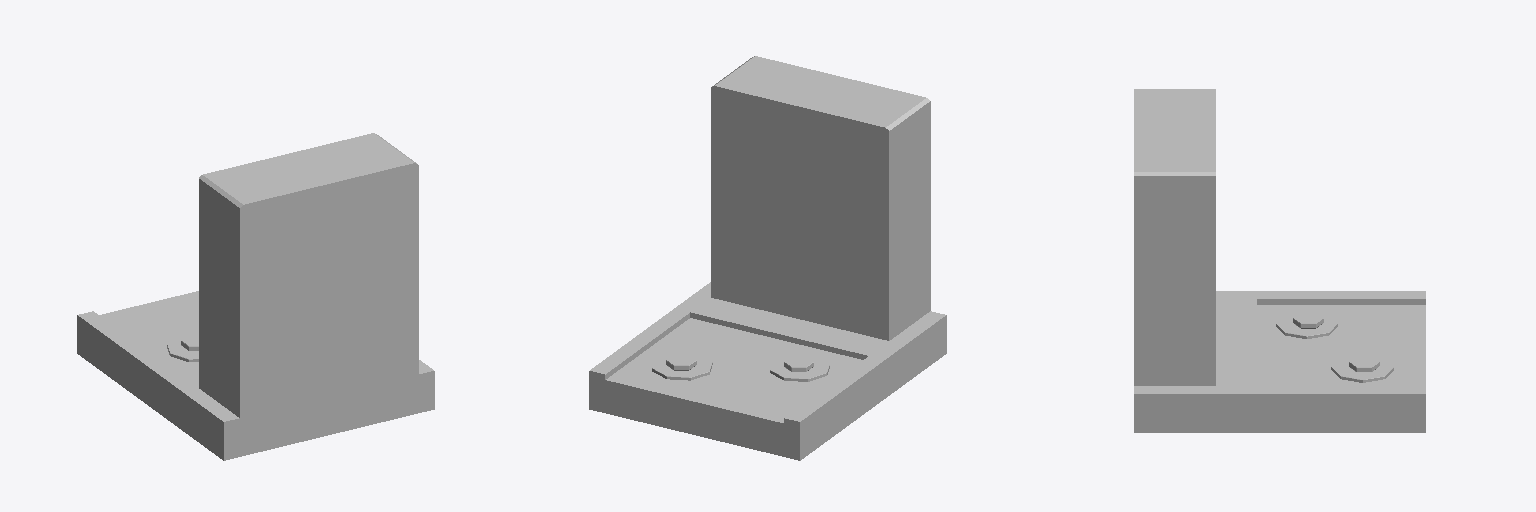
Rendered from mount.obj.
The picture shows the model from 3 angles: view 1: azimuth 30°, elevation 25°; view 2: azimuth 150°, elevation 25°; view 3: azimuth 270°, elevation 25°; orthographic projection.
Visible parts, largest first — view 1: Cube.005_Cube.006, Plane.005_Plane.007; view 2: Cube.005_Cube.006, Plane.004_Plane.005, Plane.005_Plane.007; view 3: Cube.005_Cube.006, Plane.004_Plane.005, Plane.005_Plane.007.
Part boxes in pixels (left/top/right/bottom): Cube.005_Cube.006: left=77, top=133, right=434, bottom=460; Plane.005_Plane.007: left=167, top=334, right=198, bottom=361; Cube.005_Cube.006: left=589, top=56, right=946, bottom=460; Plane.004_Plane.005: left=652, top=352, right=712, bottom=380; Plane.005_Plane.007: left=770, top=353, right=829, bottom=381; Cube.005_Cube.006: left=1134, top=89, right=1425, bottom=432; Plane.004_Plane.005: left=1331, top=354, right=1393, bottom=382; Plane.005_Plane.007: left=1276, top=310, right=1337, bottom=338.
Size of the model in its own units: 0.0485 by 0.0552 by 0.0583.